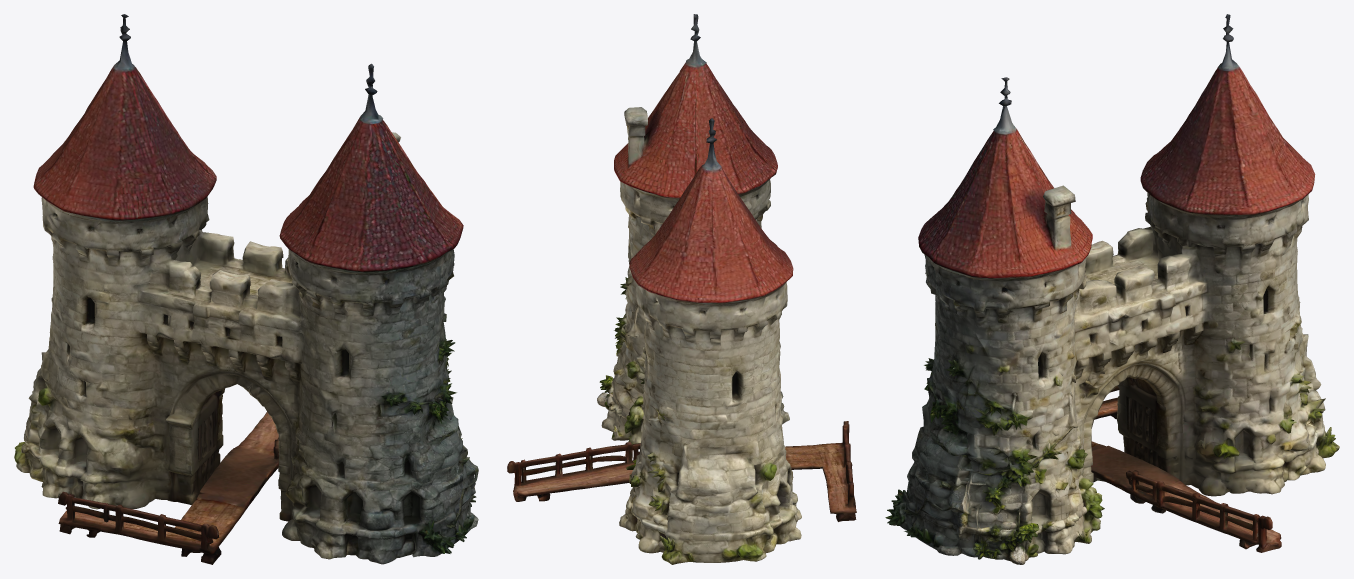
The model's file is fort_meadow_gate.glb.
3 views of the same model, side by side, from view 1: azimuth 30°, elevation 25°; view 2: azimuth 150°, elevation 25°; view 3: azimuth 270°, elevation 25° (orthographic). The views are drawn at different scales.
Parts seen in each view (by area): view 1: tripo_node_7403f46b-8556-4422-ac87-b2d0f6942e8f; view 2: tripo_node_7403f46b-8556-4422-ac87-b2d0f6942e8f; view 3: tripo_node_7403f46b-8556-4422-ac87-b2d0f6942e8f.
Part boxes in pixels (x1,y1,x2,y2): tripo_node_7403f46b-8556-4422-ac87-b2d0f6942e8f: (14,14,478,564); tripo_node_7403f46b-8556-4422-ac87-b2d0f6942e8f: (507,14,856,564); tripo_node_7403f46b-8556-4422-ac87-b2d0f6942e8f: (885,14,1339,564).
Bounding box in the file's own units: 0.7951 × 1 × 0.921.
1 material, 1 textured.
